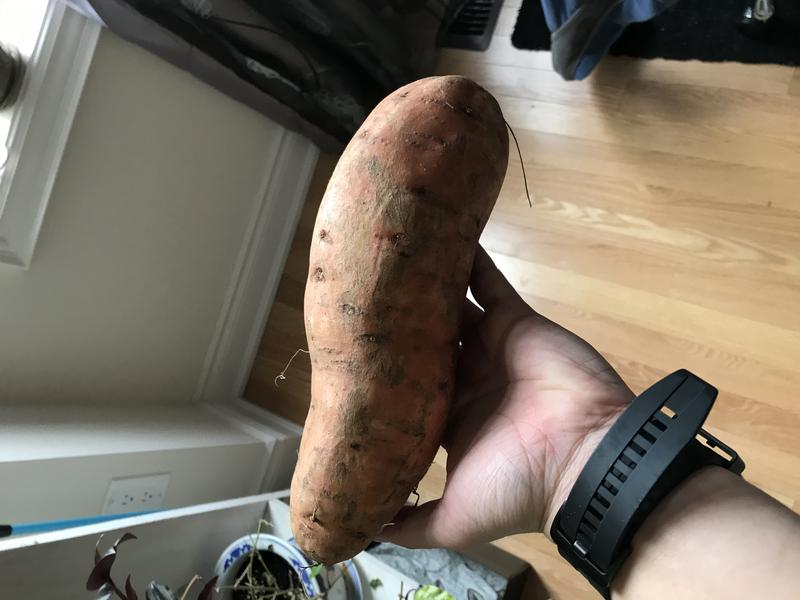sweet_potato: (281, 61, 521, 575)
